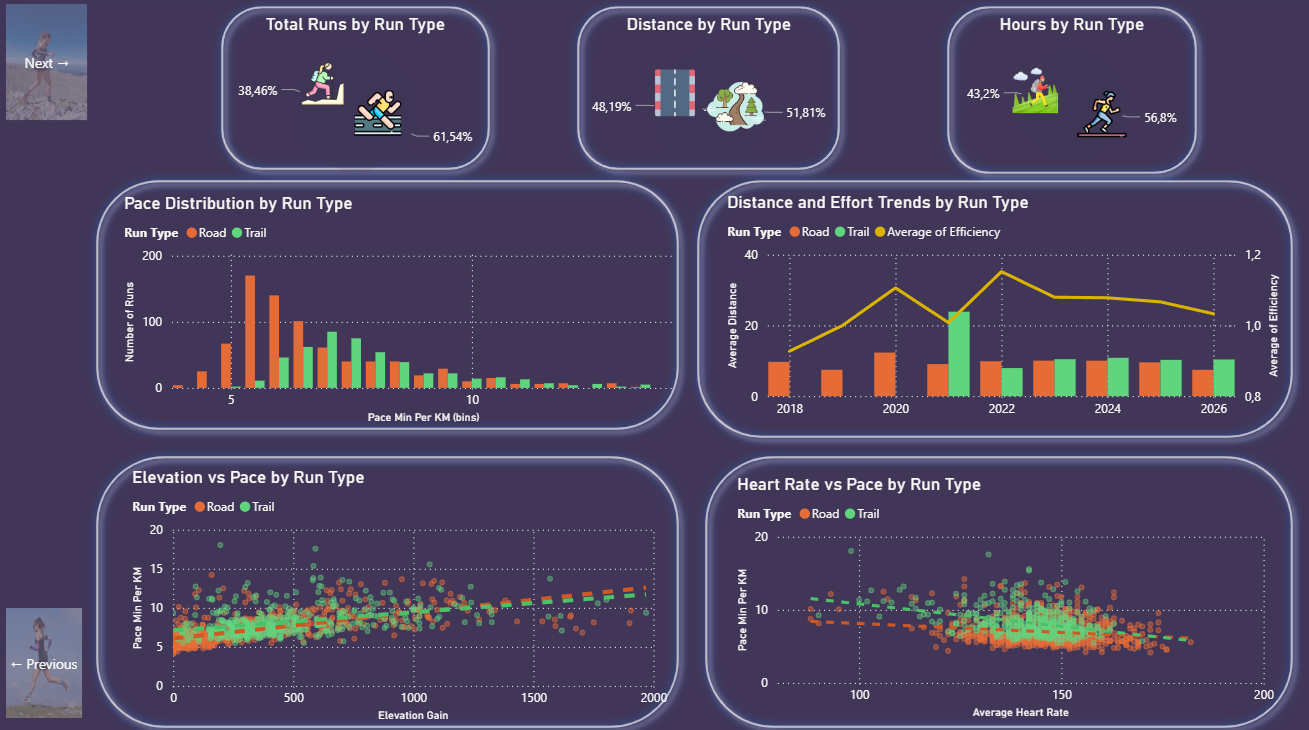

This screenshot's page, from the dashboard's own definition file:
{"tool":"powerbi","page":{"name":"Trail vs Road Deep Dive","canvas":[1280,720],"ordinal":1},"visuals":[{"type":"shape","box":[208.1,0,279.1,177],"z":0},{"type":"shape","box":[554.4,0,273.3,177],"z":1000},{"type":"shape","box":[914.3,0,260.7,180.9],"z":2000},{"type":"shape","box":[678.9,437.7,589.4,282.1],"z":3000},{"type":"shape","box":[671.1,169.2,597.2,268.4],"z":4000},{"type":"shape","box":[86.6,169.2,584.6,260.7],"z":5000},{"type":"shape","box":[86.6,437.7,584.6,282.1],"z":6000},{"type":"pieChart","title":"Hours by Run Type","fields":{"Category":["runs.Run Type"],"Y":["Sum(runs.Duration Hours)"]},"box":[924,16.5,241.2,152.7],"z":7000},{"type":"clusteredColumnChart","title":"Pace Distribution by Run Type","fields":{"Category":["runs.Pace Min Per KM (bins)"],"Series":["runs.Run Type"],"Y":["CountNonNull(runs.Pace Min Per KM)"]},"box":[117.7,190.6,545.7,228.6],"z":8000},{"type":"scatterChart","title":"Elevation vs Pace by Run Type","fields":{"X":["runs.Elevation Gain"],"Y":["runs.Pace Min Per KM"],"Series":["runs.Run Type"]},"box":[125.5,457.1,530.1,251.9],"z":9000},{"type":"pieChart","fields":{"Category":["runs.Run Type"],"Y":["runs.Total Runs"]},"box":[127.4,16.5,440.6,168.3],"z":10000},{"type":"lineClusteredColumnComboChart","title":"Distance and Effort Trends by Run Type","fields":{"Category":["runs.Year"],"Series":["runs.Run Type"],"Y2":["Avg(runs.Efficiency)"],"Y":["runs.Average Distance"]},"box":[704.2,189.7,546.6,228.6],"z":11000},{"type":"scatterChart","title":"Heart Rate vs Pace by Run Type","fields":{"Y":["runs.Pace Min Per KM"],"Series":["runs.Run Type"],"X":["runs.Average Heart Rate"]},"box":[713.9,464,532,242.2],"z":12000},{"type":"pieChart","title":"Distance by Run Type","fields":{"Category":["runs.Run Type"],"Y":["runs.Average Distance"]},"box":[549.5,16.5,284,160.5],"z":13000},{"type":"actionButton","box":[7.8,6.8,78.8,112.8],"z":14000},{"type":"actionButton","box":[7.8,594.3,73.9,107],"z":15000},{"type":"image","box":[341.4,84.6,56.4,56.4],"z":16000},{"type":"image","box":[289.8,57.4,51.6,54.5],"z":17000},{"type":"image","box":[678.9,67.1,76.8,78.8],"z":18000},{"type":"image","box":[625.4,62.2,66.1,62.2],"z":19000},{"type":"image","box":[980.4,56.4,57.4,68.1],"z":20000},{"type":"image","box":[1044.6,84.6,58.4,58.4],"z":21000}]}

Visuals, with their boxes in screenshot pixels (x1, y1, x2, y2), scaled from the page's 1280x720 canvas onto the 1309x730 screenshot:
shape: (left=213, top=0, right=498, bottom=179)
shape: (left=567, top=0, right=846, bottom=179)
shape: (left=935, top=0, right=1202, bottom=183)
shape: (left=694, top=444, right=1297, bottom=729)
shape: (left=686, top=172, right=1297, bottom=444)
shape: (left=89, top=172, right=686, bottom=436)
shape: (left=89, top=444, right=686, bottom=729)
"Hours by Run Type" pieChart: (left=945, top=17, right=1192, bottom=172)
"Pace Distribution by Run Type" clusteredColumnChart: (left=120, top=193, right=678, bottom=425)
"Elevation vs Pace by Run Type" scatterChart: (left=128, top=463, right=670, bottom=719)
pieChart - runs.Run Type x runs.Total Runs: (left=130, top=17, right=581, bottom=187)
"Distance and Effort Trends by Run Type" lineClusteredColumnComboChart: (left=720, top=192, right=1279, bottom=424)
"Heart Rate vs Pace by Run Type" scatterChart: (left=730, top=470, right=1274, bottom=716)
"Distance by Run Type" pieChart: (left=562, top=17, right=852, bottom=179)
actionButton: (left=8, top=7, right=89, bottom=121)
actionButton: (left=8, top=603, right=84, bottom=711)
image: (left=349, top=86, right=407, bottom=143)
image: (left=296, top=58, right=349, bottom=113)
image: (left=694, top=68, right=773, bottom=148)
image: (left=640, top=63, right=707, bottom=126)
image: (left=1003, top=57, right=1061, bottom=126)
image: (left=1068, top=86, right=1128, bottom=145)
